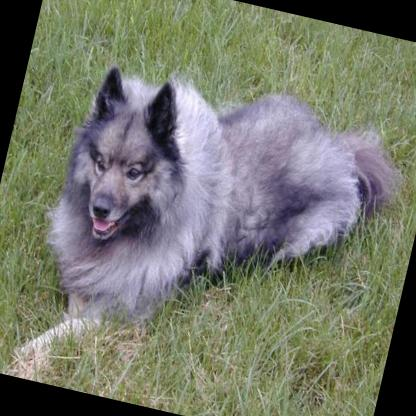keeshond: (4, 43, 416, 416)
